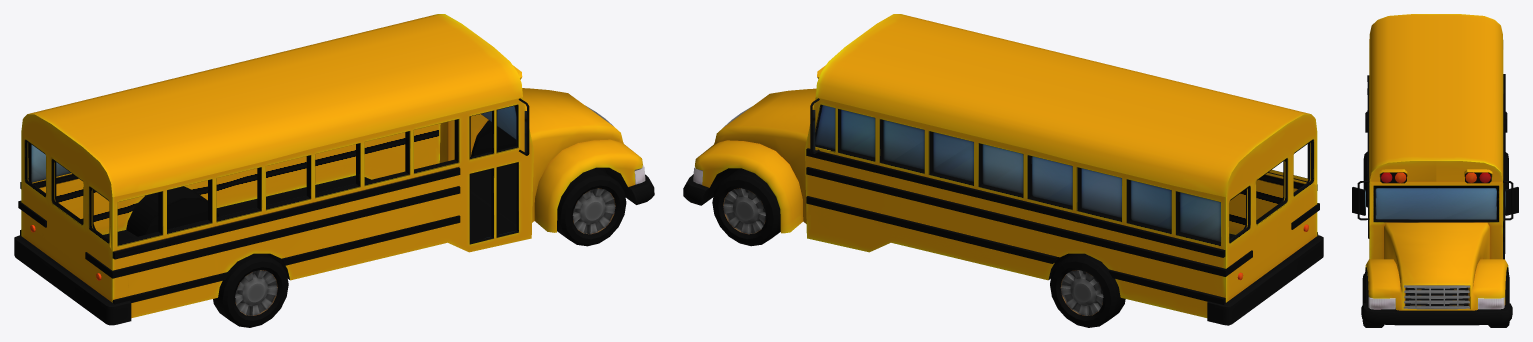
The model's file is SchoolBus (1).fbx.
3 views of the same model, side by side, from view 1: azimuth 30°, elevation 25°; view 2: azimuth 150°, elevation 25°; view 3: azimuth 270°, elevation 25° (orthographic). The views are drawn at different scales.
Parts seen in each view (by area): view 1: schoolbus.055; view 2: schoolbus.055; view 3: schoolbus.055.
Part boxes in pixels (x1=…): schoolbus.055: x1=14, y1=14, x2=654, y2=327; schoolbus.055: x1=683, y1=14, x2=1323, y2=327; schoolbus.055: x1=1352, y1=14, x2=1518, y2=327.
Size of the model in its own units: 6807 by 2257 by 2435.
